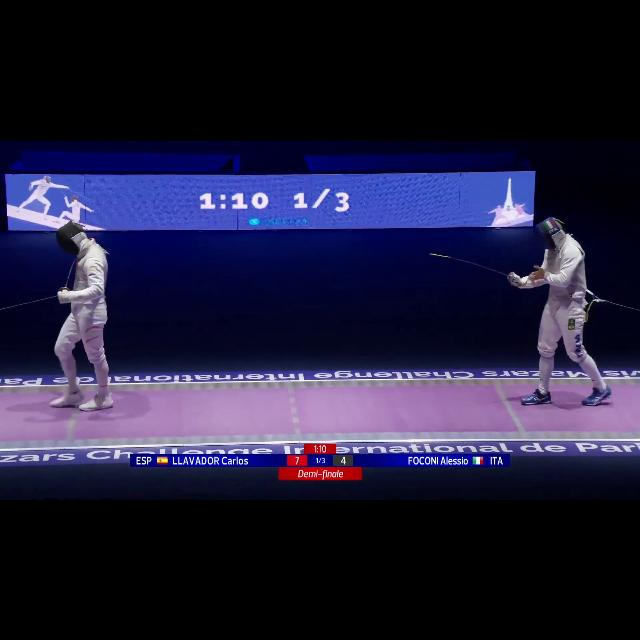blade: (423, 248, 523, 280), (59, 244, 80, 300)
